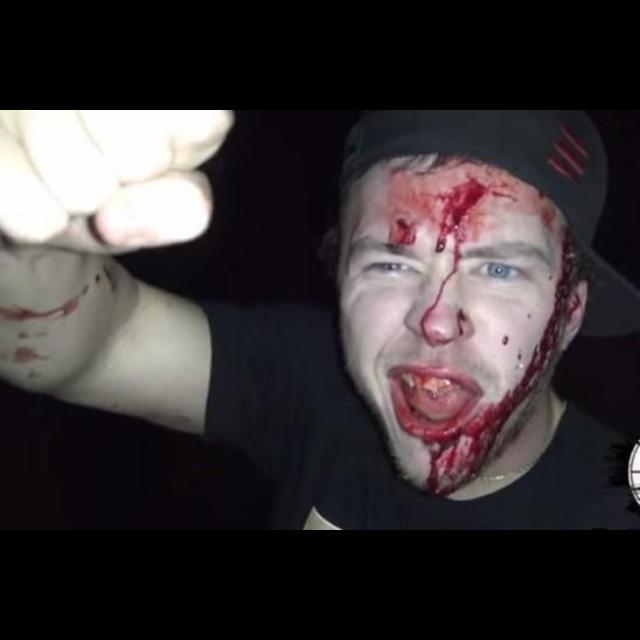blood: (381, 154, 588, 501), (0, 260, 126, 401)
